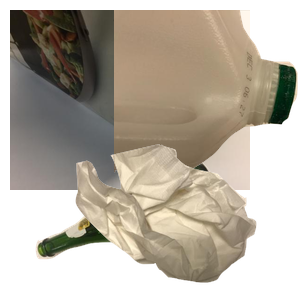cardboard: (10, 10, 250, 190)
glass: (33, 158, 246, 300)
plastic: (114, 10, 300, 179)
trash: (73, 142, 300, 300)
